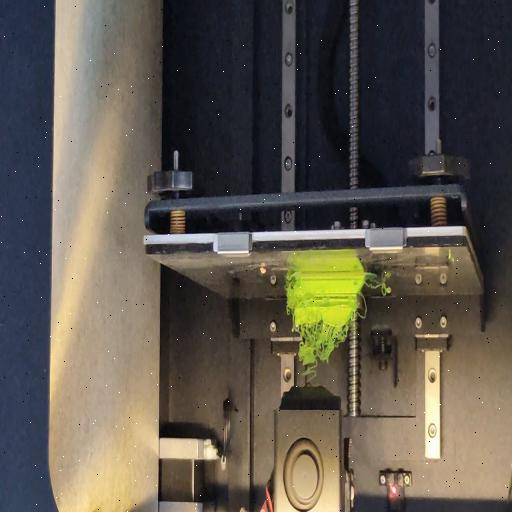spaghetti: (296, 320, 352, 386), (368, 280, 390, 298), (357, 293, 369, 319), (285, 273, 295, 283)
